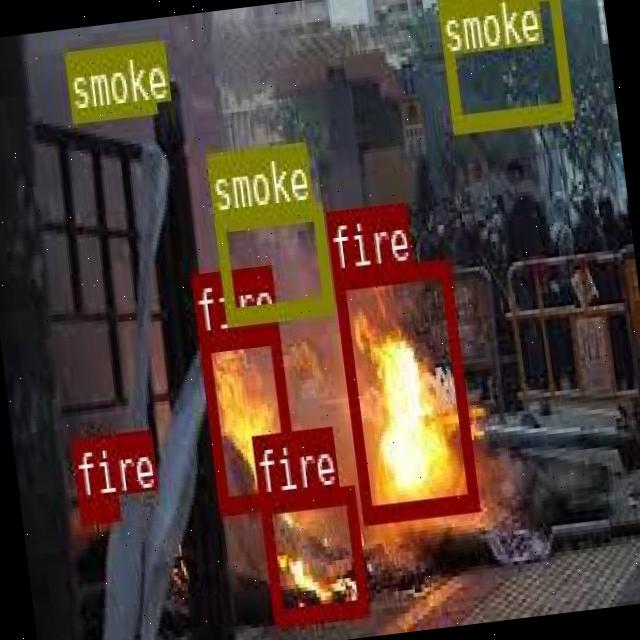fire: (332, 256, 476, 522), (196, 326, 297, 510), (258, 482, 366, 624), (78, 494, 119, 520)
smoke: (434, 0, 570, 130), (212, 202, 332, 322), (63, 39, 154, 119)
